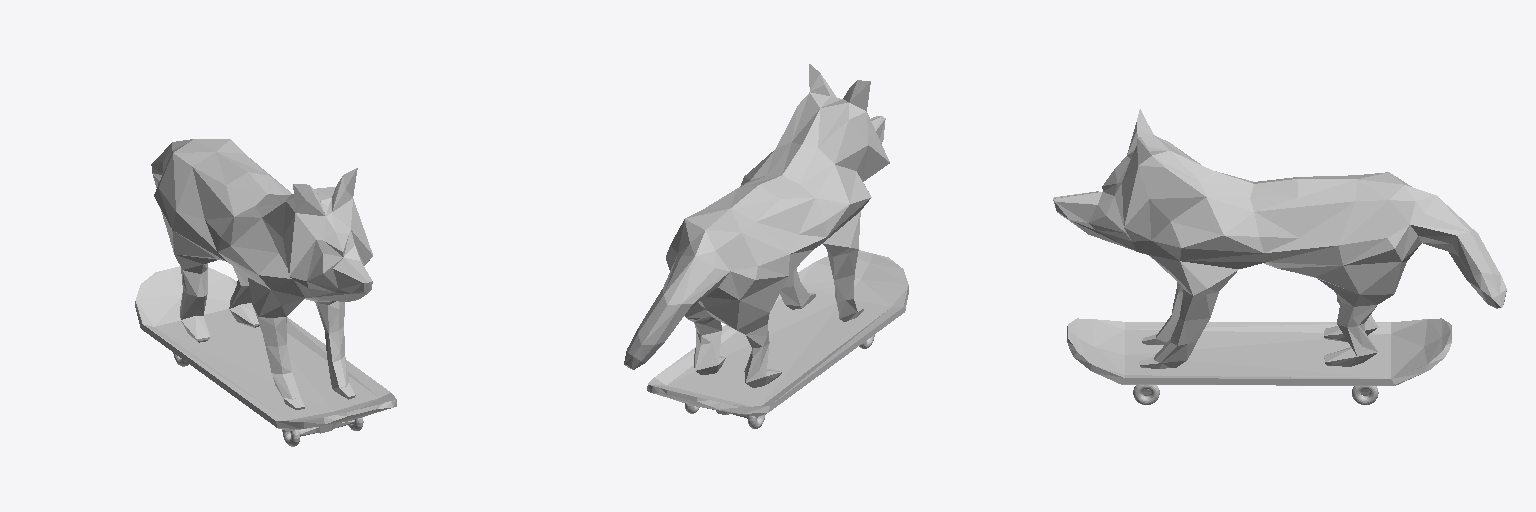
Rendered from WaschbaerSchritt2.obj.
The picture shows the model from 3 angles: view 1: azimuth 30°, elevation 25°; view 2: azimuth 150°, elevation 25°; view 3: azimuth 270°, elevation 25°; orthographic projection.
Visible parts, largest first — view 1: initialShadingGroup pCube1 polySurface1, initialShadingGroup pCube2 polySurface1; view 2: initialShadingGroup pCube1 polySurface1, initialShadingGroup pCube2 polySurface1; view 3: initialShadingGroup pCube1 polySurface1, initialShadingGroup pCube2 polySurface1.
Boxes of the visible parts, x1,y1,x2,y2 form: initialShadingGroup pCube1 polySurface1: [151, 139, 372, 409]; initialShadingGroup pCube2 polySurface1: [135, 266, 396, 436]; initialShadingGroup pCube1 polySurface1: [624, 64, 889, 387]; initialShadingGroup pCube2 polySurface1: [647, 250, 908, 418]; initialShadingGroup pCube1 polySurface1: [1053, 109, 1506, 368]; initialShadingGroup pCube2 polySurface1: [1067, 318, 1451, 395].
Bounding box in the file's own units: 3.58 × 7.88 × 12.15.